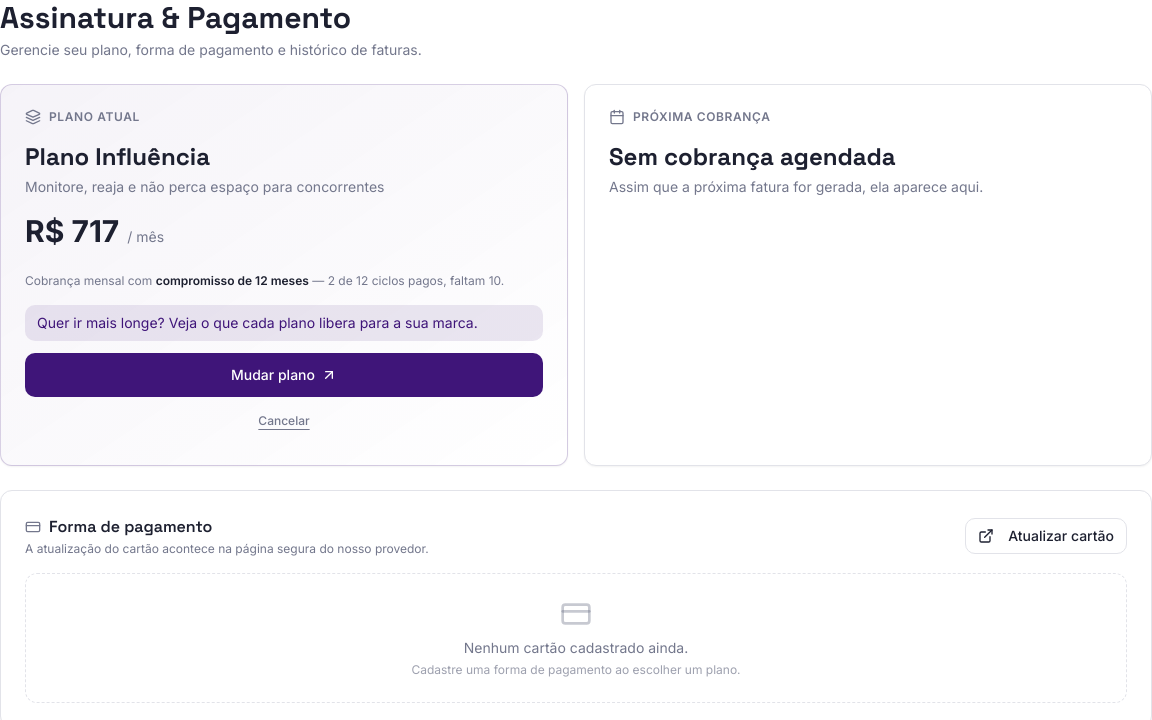
Diálogo de cancelamento — valor vem do servidor › mostra 'Calculando…' com Confirmar desabilitado e depois a frase com o valor do servidor
Later steps or results of the test are not shown.
Click the button "Cancelar": (284, 421) left=242, top=401, right=326, bottom=441
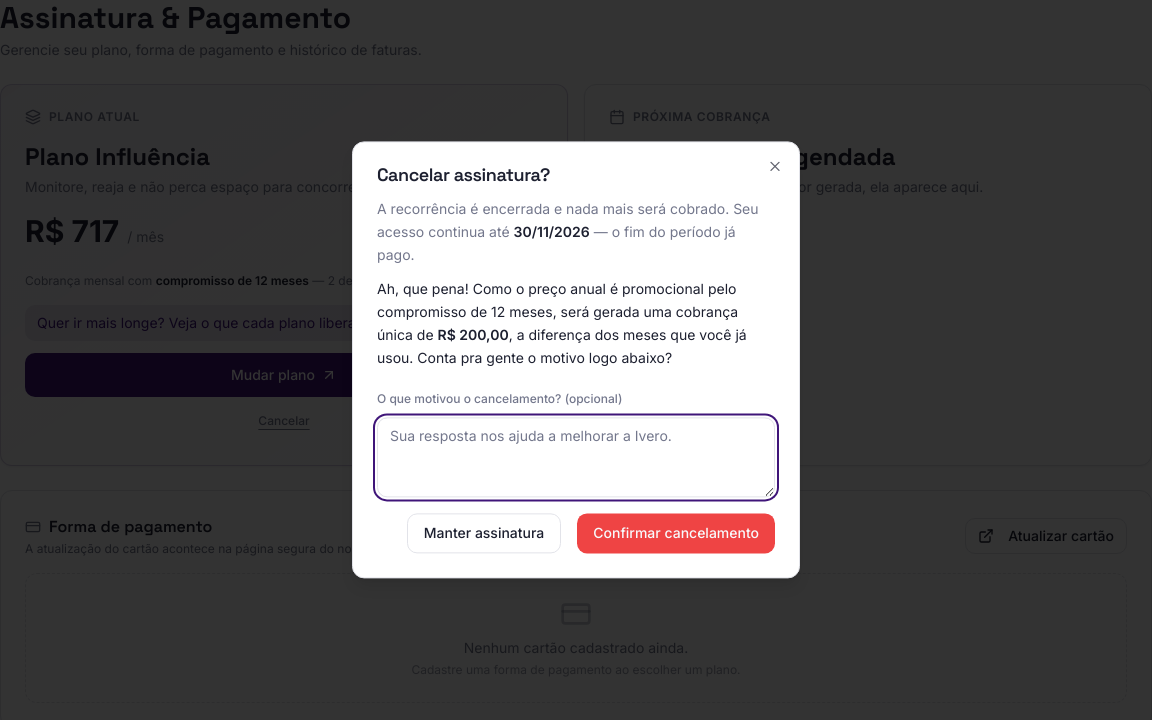
Now the element with test id "cancel-preview-multa" shows "Ah, que pena!", box left=377, top=281, right=736, bottom=320
Now the element with test id "cancel-preview-multa" shows "Como o preço anual é promocional pelo compromisso de 12 meses", box left=377, top=279, right=775, bottom=370
Now the element with test id "cancel-preview-multa" shows "será gerada uma cobrança única de R$ 200,00", box left=377, top=279, right=775, bottom=370
